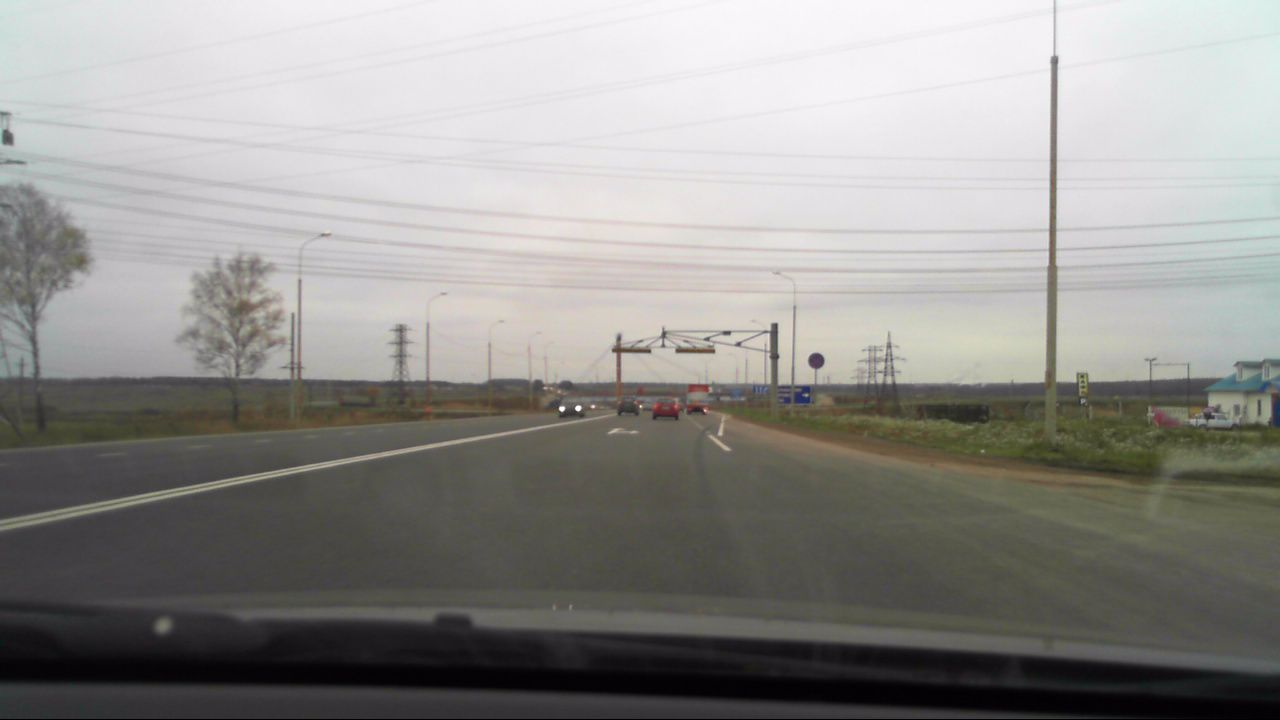No Parking: (806, 351, 825, 371)
